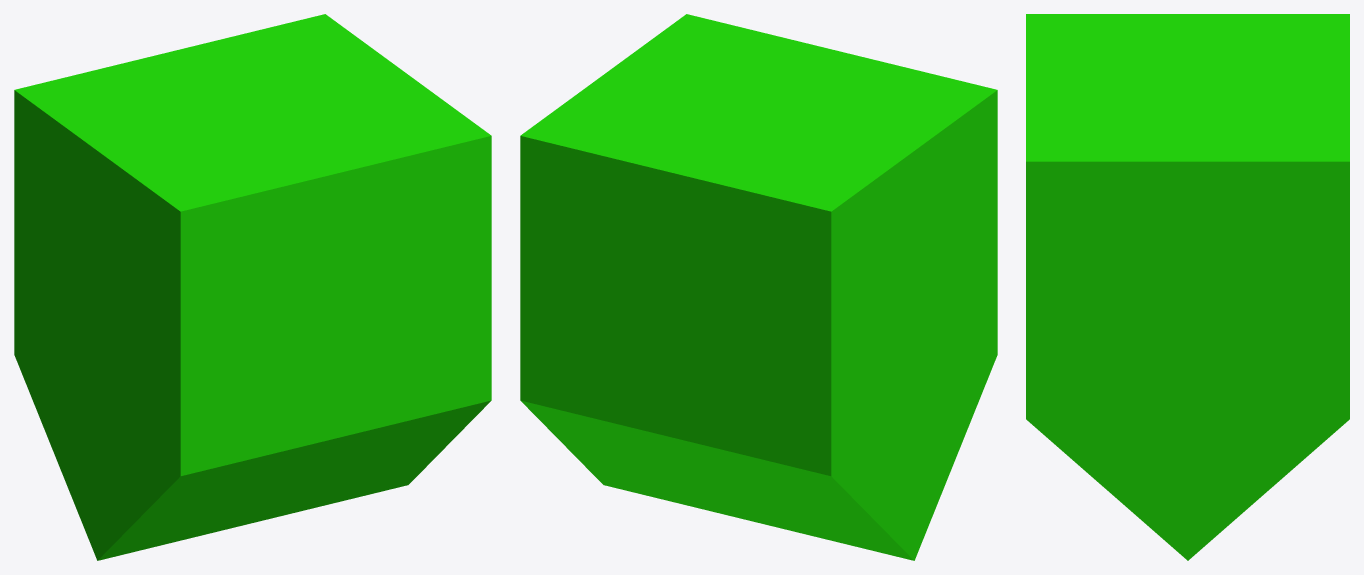
The model's file is School.fbx.
The picture shows the model from 3 angles, left to right: view 1: azimuth 30°, elevation 25°; view 2: azimuth 150°, elevation 25°; view 3: azimuth 270°, elevation 25°; orthographic projection. The views are drawn at different scales.
Visible parts, largest first — view 1: Cube; view 2: Cube; view 3: Cube.
Boxes of the visible parts, x1,y1,x2,y2 form: Cube: [14, 14, 491, 560]; Cube: [520, 14, 997, 560]; Cube: [1026, 14, 1349, 560].
Bounding box in the file's own units: 2138 × 2694 × 1980.
